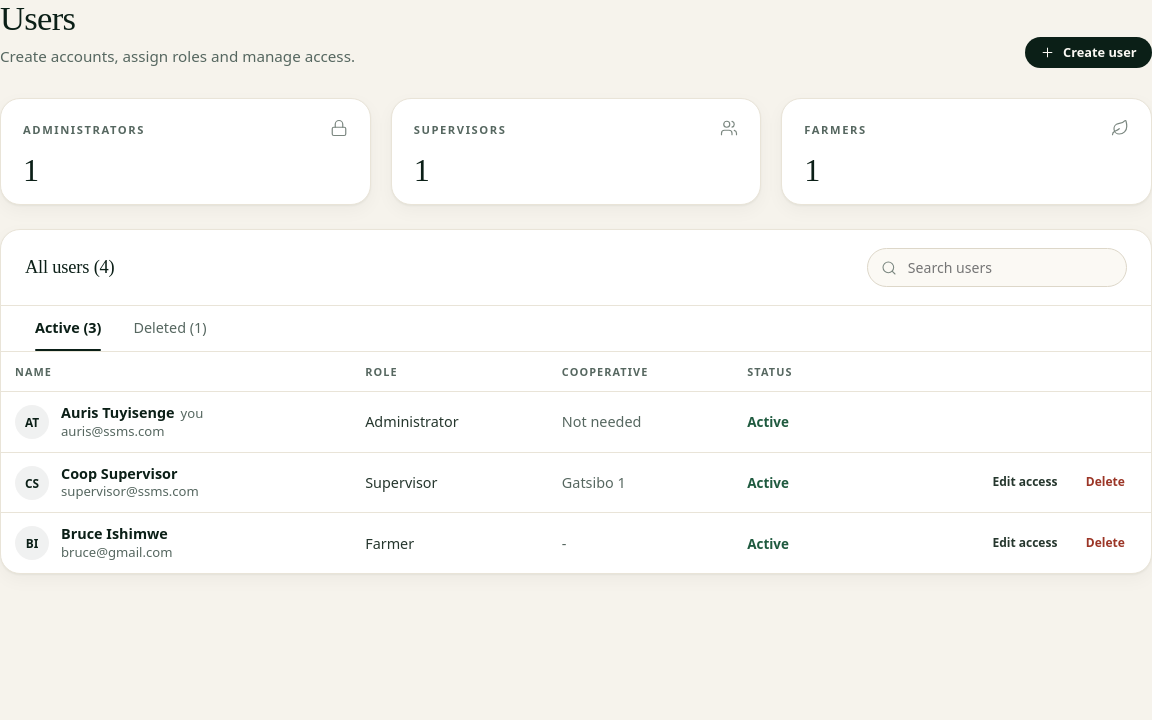
Test: Users page › Edit access › goes back from the review to the form without saving
The width and height of the screenshot is (1152, 720).
Click the button with aria-label "Edit access for Bruce Ishimwe" at point(1025, 543), box left=980, top=531, right=1070, bottom=556
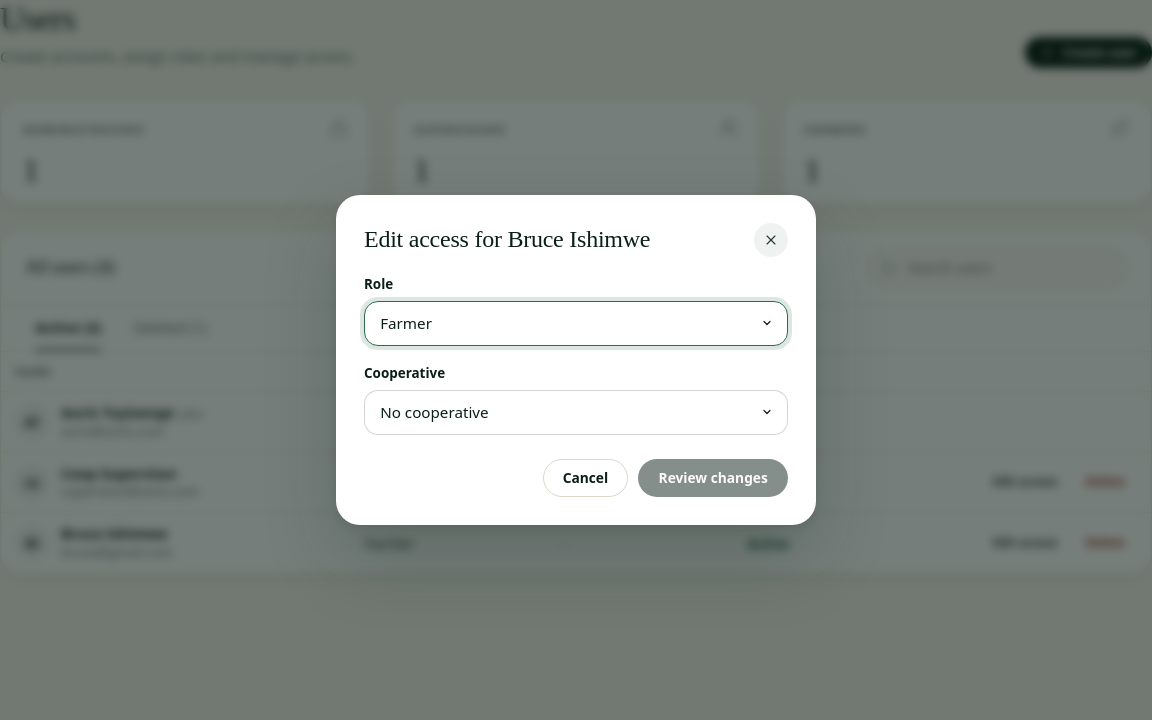
Select "Supervisor" in the dropdown labelled "Role" at point(576, 323), box left=364, top=301, right=788, bottom=346
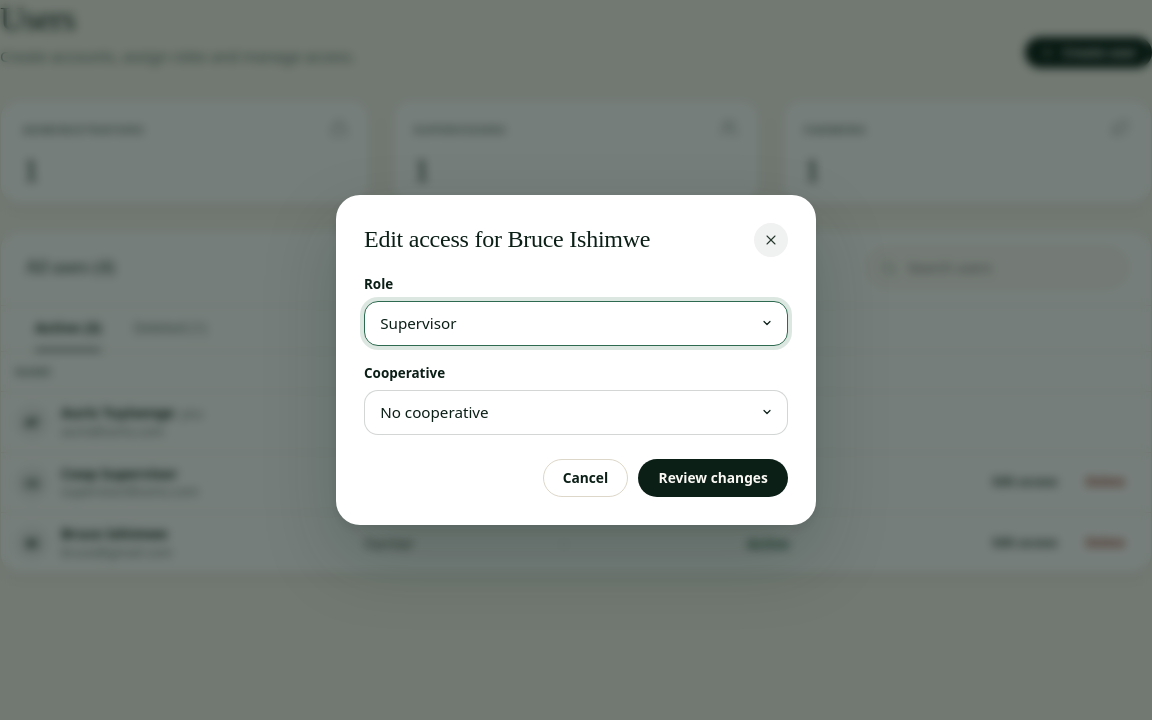
Click the button "Review changes" at point(713, 478), box left=638, top=459, right=788, bottom=497
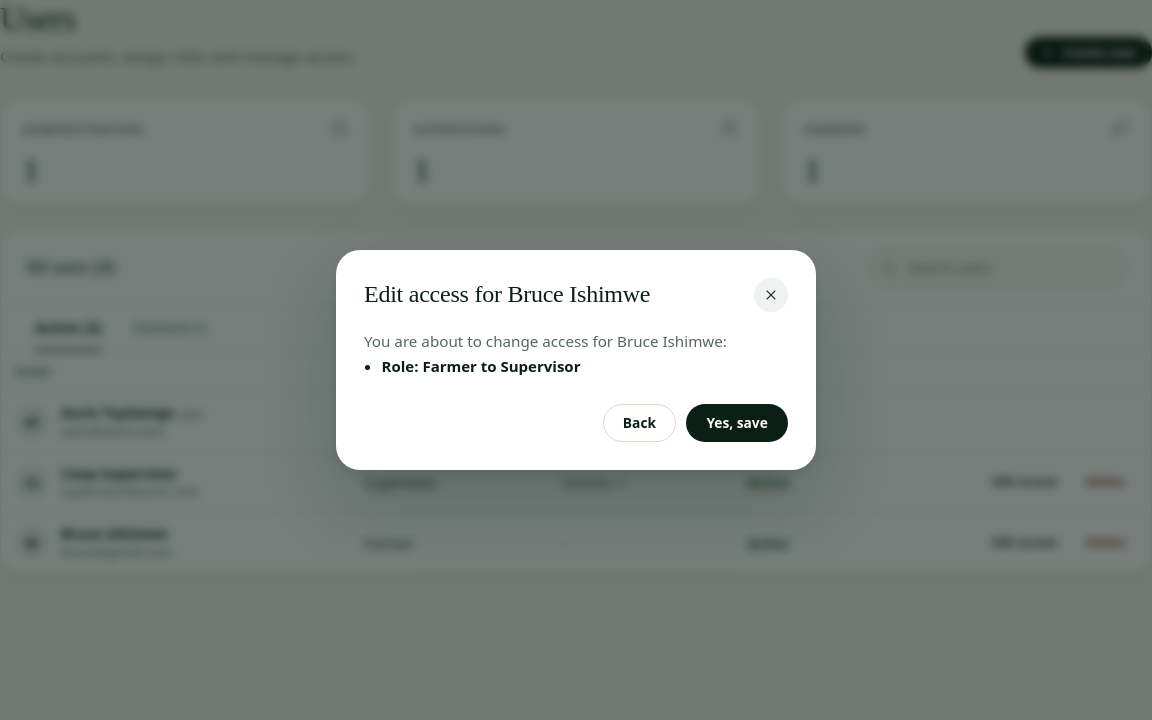
Click the button "Back" at point(639, 423), box left=603, top=404, right=676, bottom=442
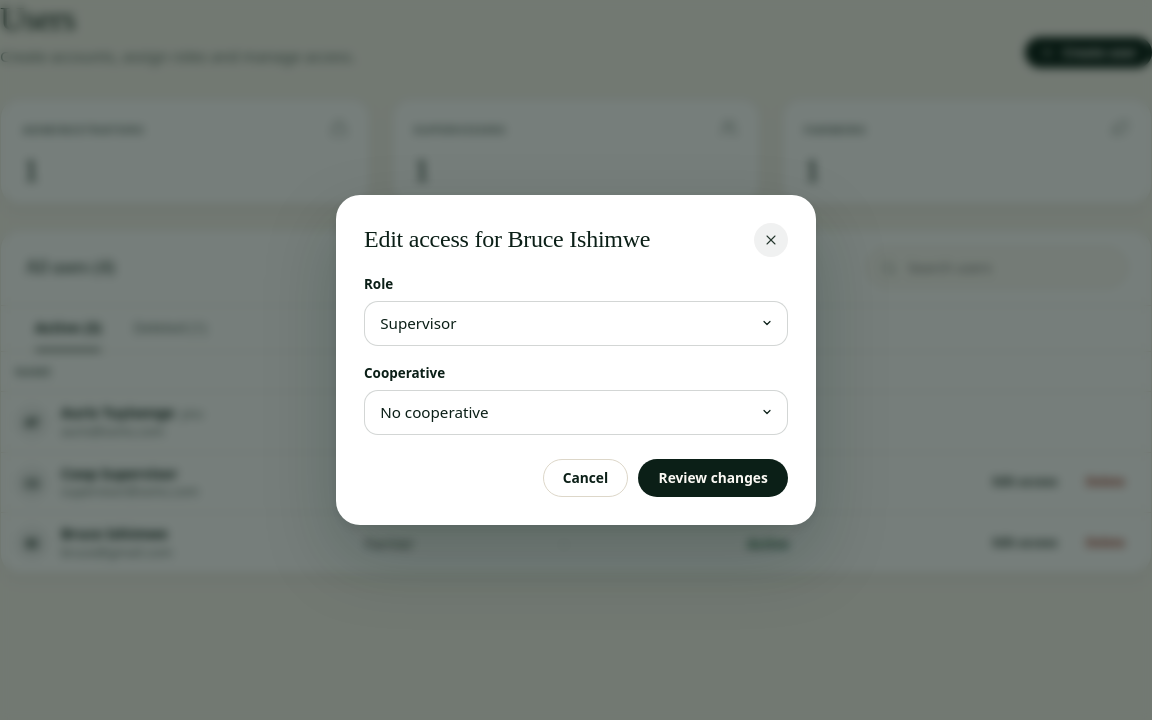
expect the dropdown labelled "Role" shows "Supervisor": met, box left=364, top=301, right=788, bottom=346
